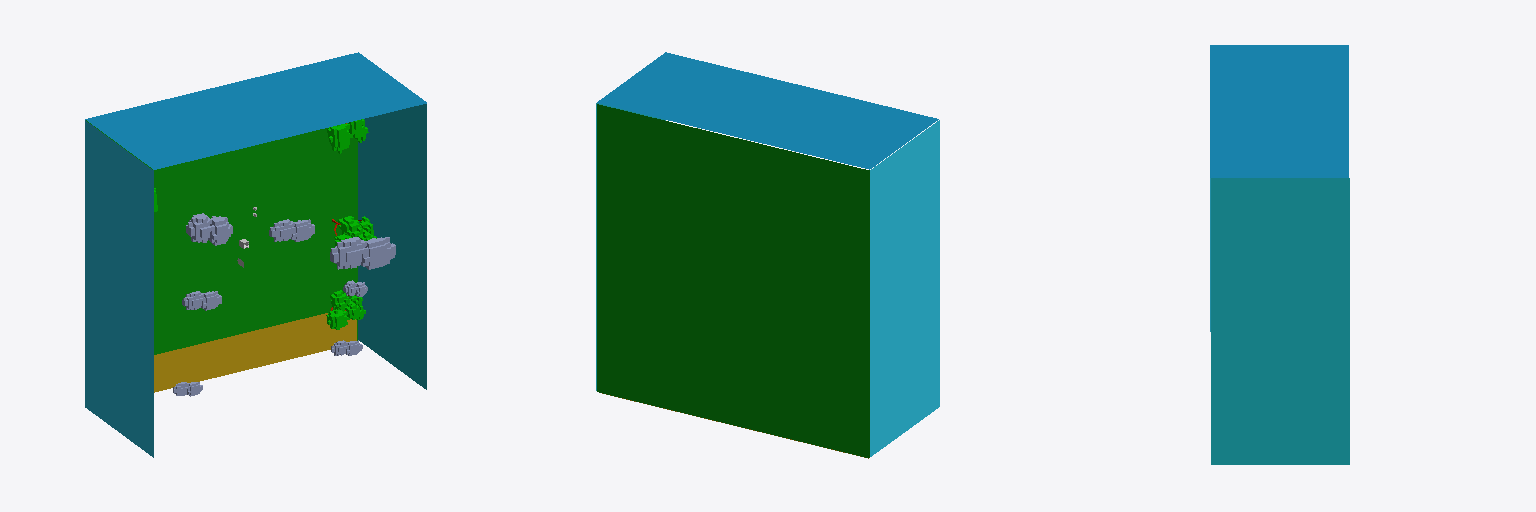
File: archery_stage.obj
3 renders of one model, left to right at view 1: azimuth 30°, elevation 25°; view 2: azimuth 150°, elevation 25°; view 3: azimuth 270°, elevation 25°, orthographic.
Visible parts, largest first — view 1: Plane, Plane.003_Plane.004, Plane.001_Plane.002, Plane.002_Plane.003, Plane.004_Plane.006, Sphere.002_Sphere.003, Sphere.001_Sphere.002, Sphere.011, Sphere.003_Sphere.004, Sphere.008_Sphere.009, Sphere.012, Sphere.005_Sphere.006; view 2: Plane.005_Plane.007, Plane.003_Plane.004, Plane.001_Plane.002; view 3: Plane.002_Plane.003, Plane.001_Plane.002.
Part boxes in pixels (x1,y1,x2,y2): Plane: (86, 120, 357, 354); Plane.003_Plane.004: (85, 120, 153, 457); Plane.001_Plane.002: (85, 52, 426, 169); Plane.002_Plane.003: (358, 104, 426, 389); Plane.004_Plane.006: (154, 313, 356, 392); Sphere.002_Sphere.003: (330, 237, 395, 269); Sphere.001_Sphere.002: (186, 213, 232, 245); Sphere.011: (326, 290, 365, 329); Sphere.003_Sphere.004: (327, 119, 368, 153); Sphere.008_Sphere.009: (269, 219, 314, 241); Sphere.012: (334, 216, 376, 245); Sphere.005_Sphere.006: (182, 291, 221, 310); Plane.005_Plane.007: (597, 105, 868, 457); Plane.003_Plane.004: (870, 120, 939, 456); Plane.001_Plane.002: (597, 52, 938, 169); Plane.002_Plane.003: (1211, 178, 1349, 464); Plane.001_Plane.002: (1210, 45, 1348, 177).
Size of the model in its own units: 45.67 by 46.12 by 20.08.